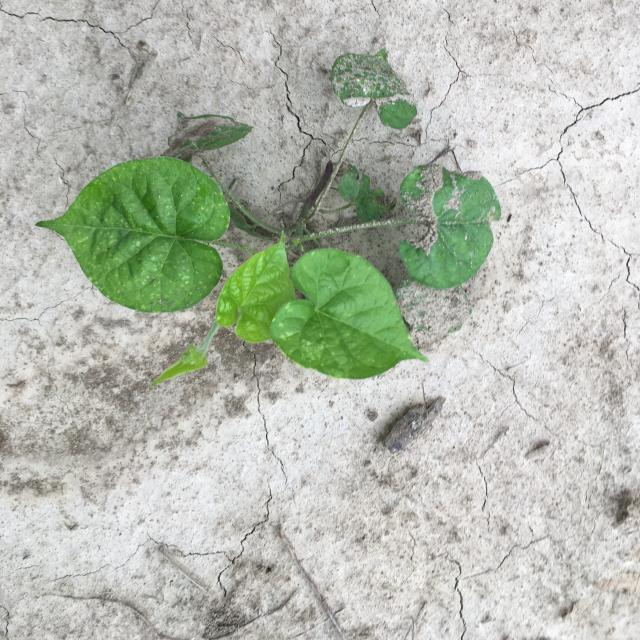MorningGlory: (35, 47, 502, 387)
